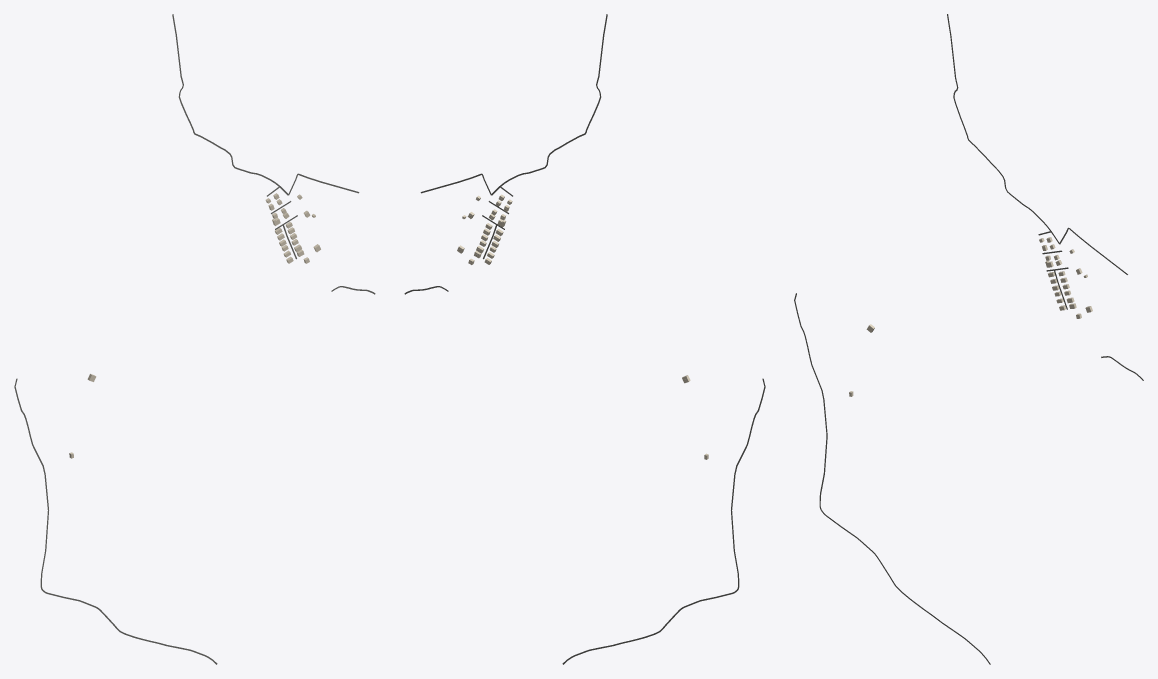
Rendered from irbid_3577_3249.glb.
The picture shows the model from 3 angles, left to right: view 1: azimuth 30°, elevation 25°; view 2: azimuth 150°, elevation 25°; view 3: azimuth 330°, elevation 25°; orthographic projection. The views are drawn at different scales.
Visible parts, largest first — view 1: Road; view 2: Road; view 3: Road.
Boxes of the visible parts, box(x1,y1,x2,y2) form: Road: box(14, 378, 217, 664); Road: box(562, 378, 765, 664); Road: box(794, 293, 990, 664).
Size of the model in its own units: 880 by 1540 by 8.7.
